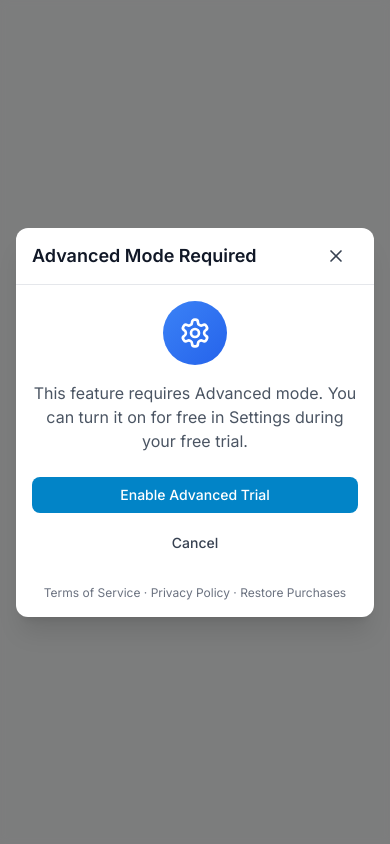
Test: PaywallModal › loading states › should disable button during trial upgrade
What coordinates should you click on to do the following:
click the button "Enable Advanced Trial"
I would click on:
 (195, 494)
Its box is left=32, top=476, right=358, bottom=512.
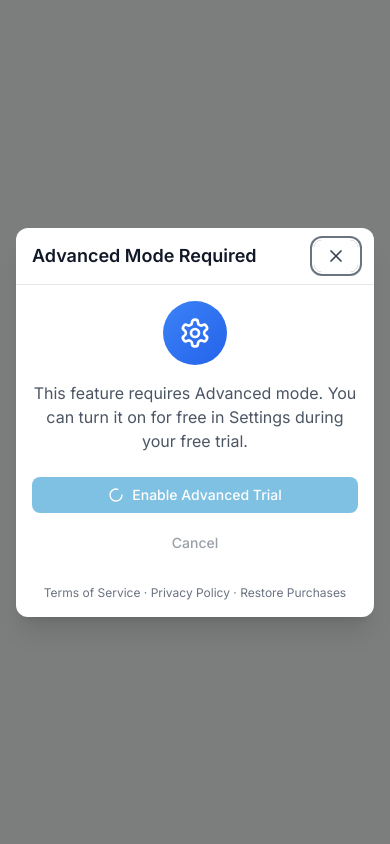
Expected: the button "Enable Advanced Trial" is disabled, left=32, top=476, right=358, bottom=512
